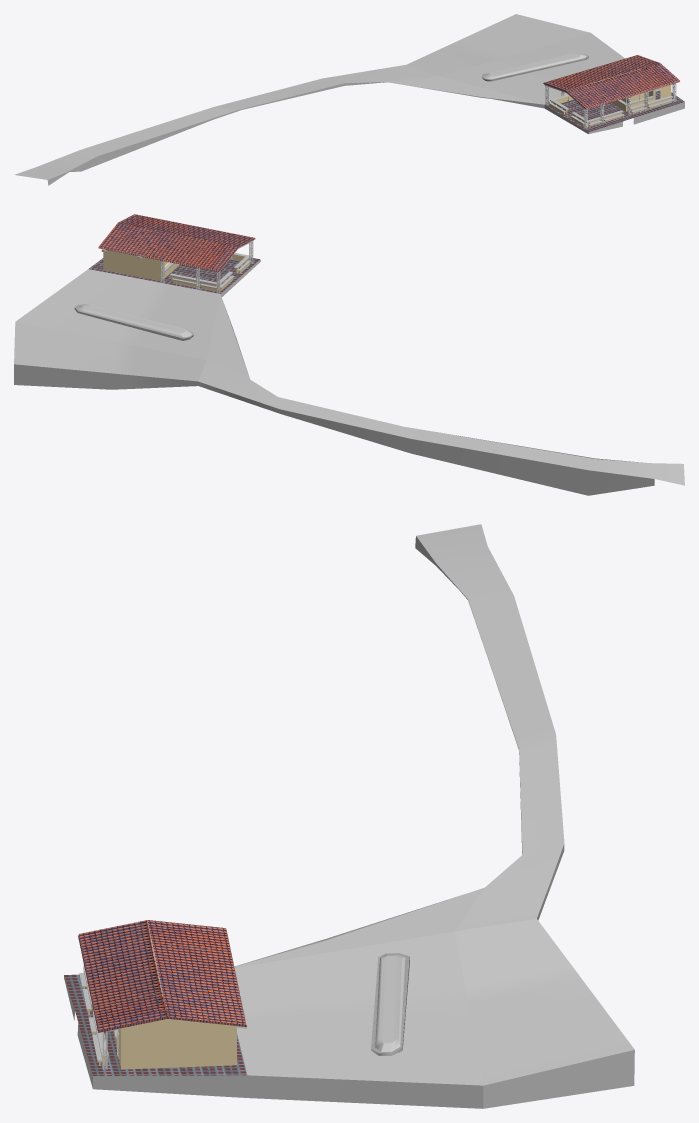
Rendered from cafeteria_P_corregida.fbx.
3 views of the same model, one above another, from view 1: azimuth 30°, elevation 25°; view 2: azimuth 150°, elevation 25°; view 3: azimuth 270°, elevation 25° (orthographic). The views are drawn at different scales.
Parts seen in each view (by area): view 1: polySurface2360, polySurface2142, polySurface3175, polySurface2141; view 2: polySurface2360, polySurface2142, polySurface3175, polySurface2141; view 3: polySurface2360, polySurface2142, polySurface2141, polySurface3175.
Part boxes in pixels (left/top/right/bottom): polySurface2360: left=14, top=14, right=684, bottom=185; polySurface2142: left=543, top=55, right=679, bottom=109; polySurface3175: left=482, top=53, right=588, bottom=81; polySurface2141: left=611, top=84, right=671, bottom=111; polySurface2360: left=14, top=255, right=684, bottom=495; polySurface2142: left=98, top=214, right=255, bottom=271; polySurface3175: left=74, top=304, right=193, bottom=340; polySurface2141: left=103, top=250, right=179, bottom=280; polySurface2360: left=64, top=524, right=634, bottom=1108; polySurface2142: left=78, top=920, right=246, bottom=1032; polySurface2141: left=113, top=1019, right=236, bottom=1069; polySurface3175: left=371, top=953, right=409, bottom=1055.
Size of the model in its own units: 13.12 by 1.13 by 5.62.
